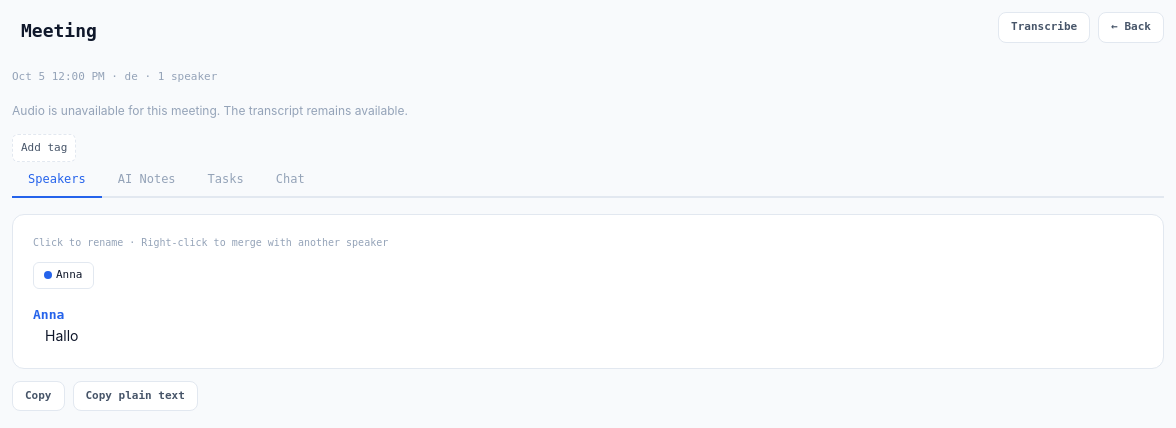
Test case: a notes save conflict preserves the generated draft and sends both displayed guards
This screenshot has width=1176, height=428.
Click the button "AI Notes".
click(147, 180)  # box [102,162,192,198]
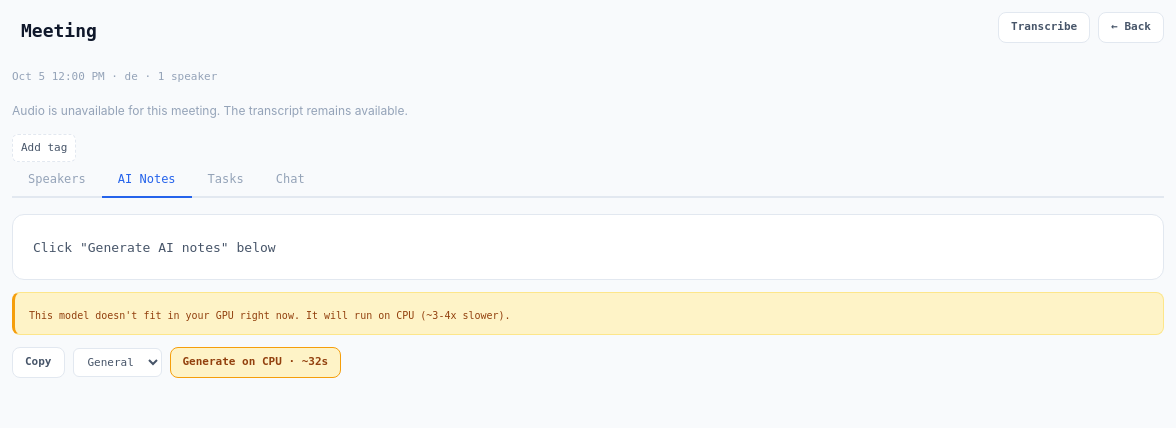
Click the button "Generate on CPU · ~32s".
click(255, 362)  # box [170,347,341,378]
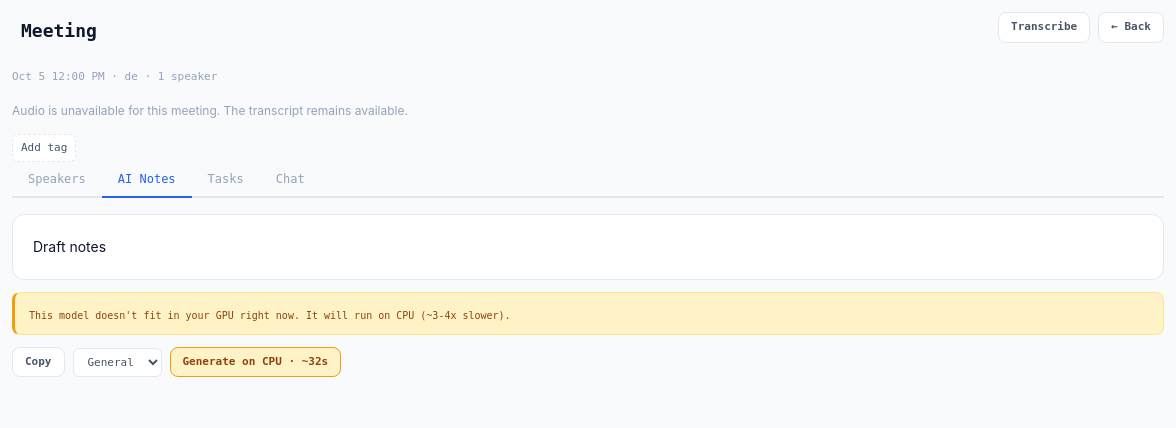
Expected: the text "Draft notes" is shown, [12,214,1164,280]
